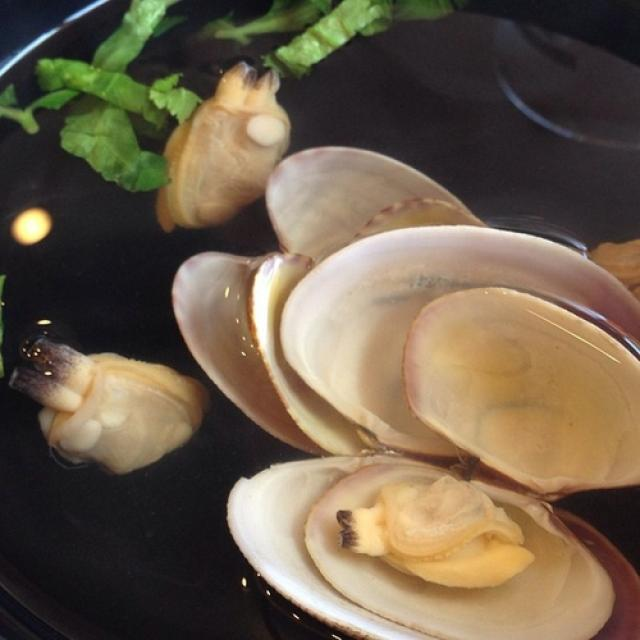汤锅炖物: (5, 5, 635, 631)
